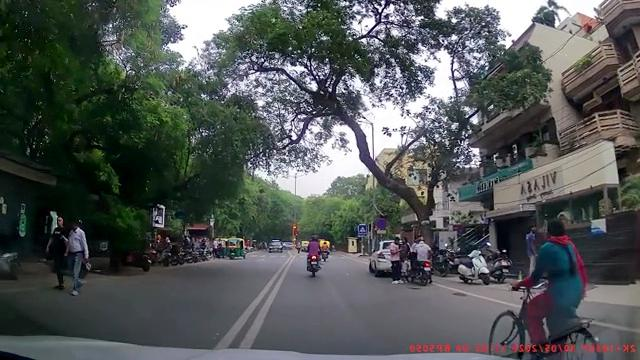motorcycle_with_helmet: (305, 234, 325, 277)
